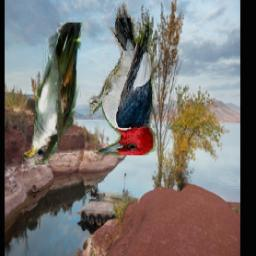Cuckoo: (23, 23, 81, 165)
Woodpecker: (84, 1, 158, 155)
